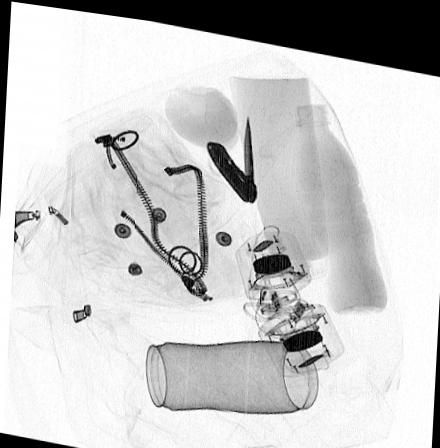Knife: (204, 106, 259, 199)
